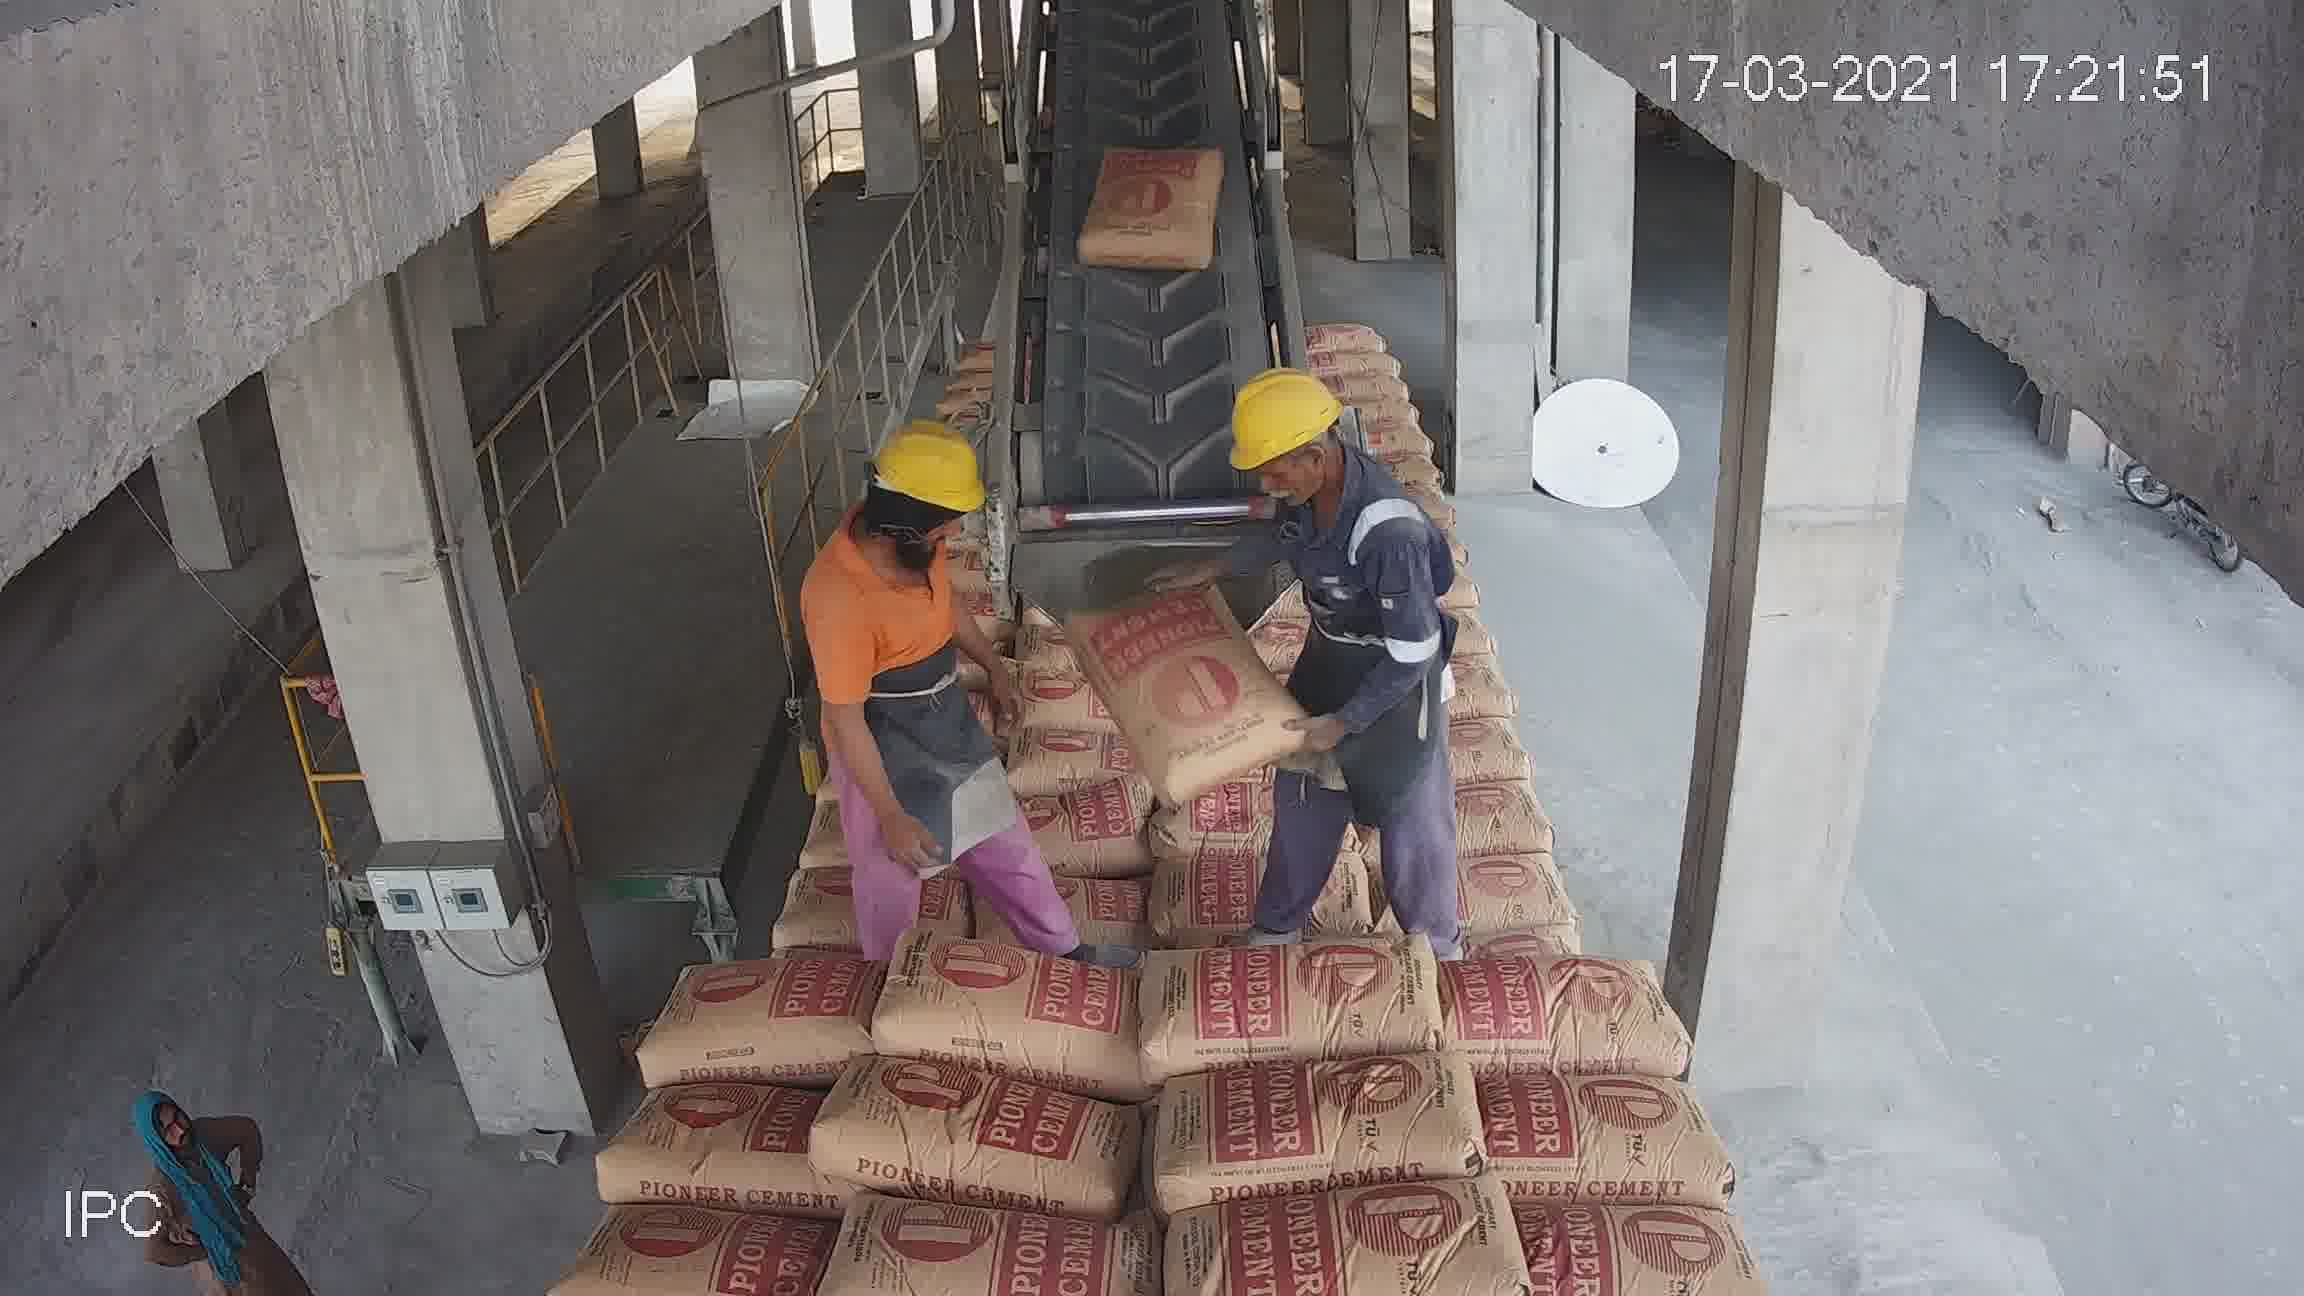bag_h: (1154, 1052, 1473, 1203), (1155, 1176, 1525, 1294), (1133, 706, 1407, 855), (1143, 930, 1448, 1063), (812, 1079, 1152, 1196), (1146, 829, 1423, 959), (862, 961, 1152, 1084), (896, 840, 1166, 956), (1472, 1078, 1733, 1196), (570, 1095, 828, 1212), (1453, 949, 1679, 1073), (1408, 848, 1635, 961), (633, 975, 872, 1079), (1516, 1188, 1764, 1287), (1374, 760, 1581, 867), (824, 1214, 1109, 1285), (910, 755, 1138, 840), (687, 866, 885, 964), (536, 1231, 809, 1296), (714, 790, 888, 880), (1147, 668, 1324, 742), (1161, 562, 1336, 633), (1021, 658, 1185, 733), (1013, 718, 1173, 783), (1160, 519, 1320, 582), (1147, 617, 1305, 676), (995, 620, 1176, 669), (929, 532, 1041, 585), (911, 460, 1032, 506), (913, 502, 1036, 544), (1043, 593, 1180, 628), (1038, 552, 1173, 587)
belt: (1017, 9, 1305, 527)
